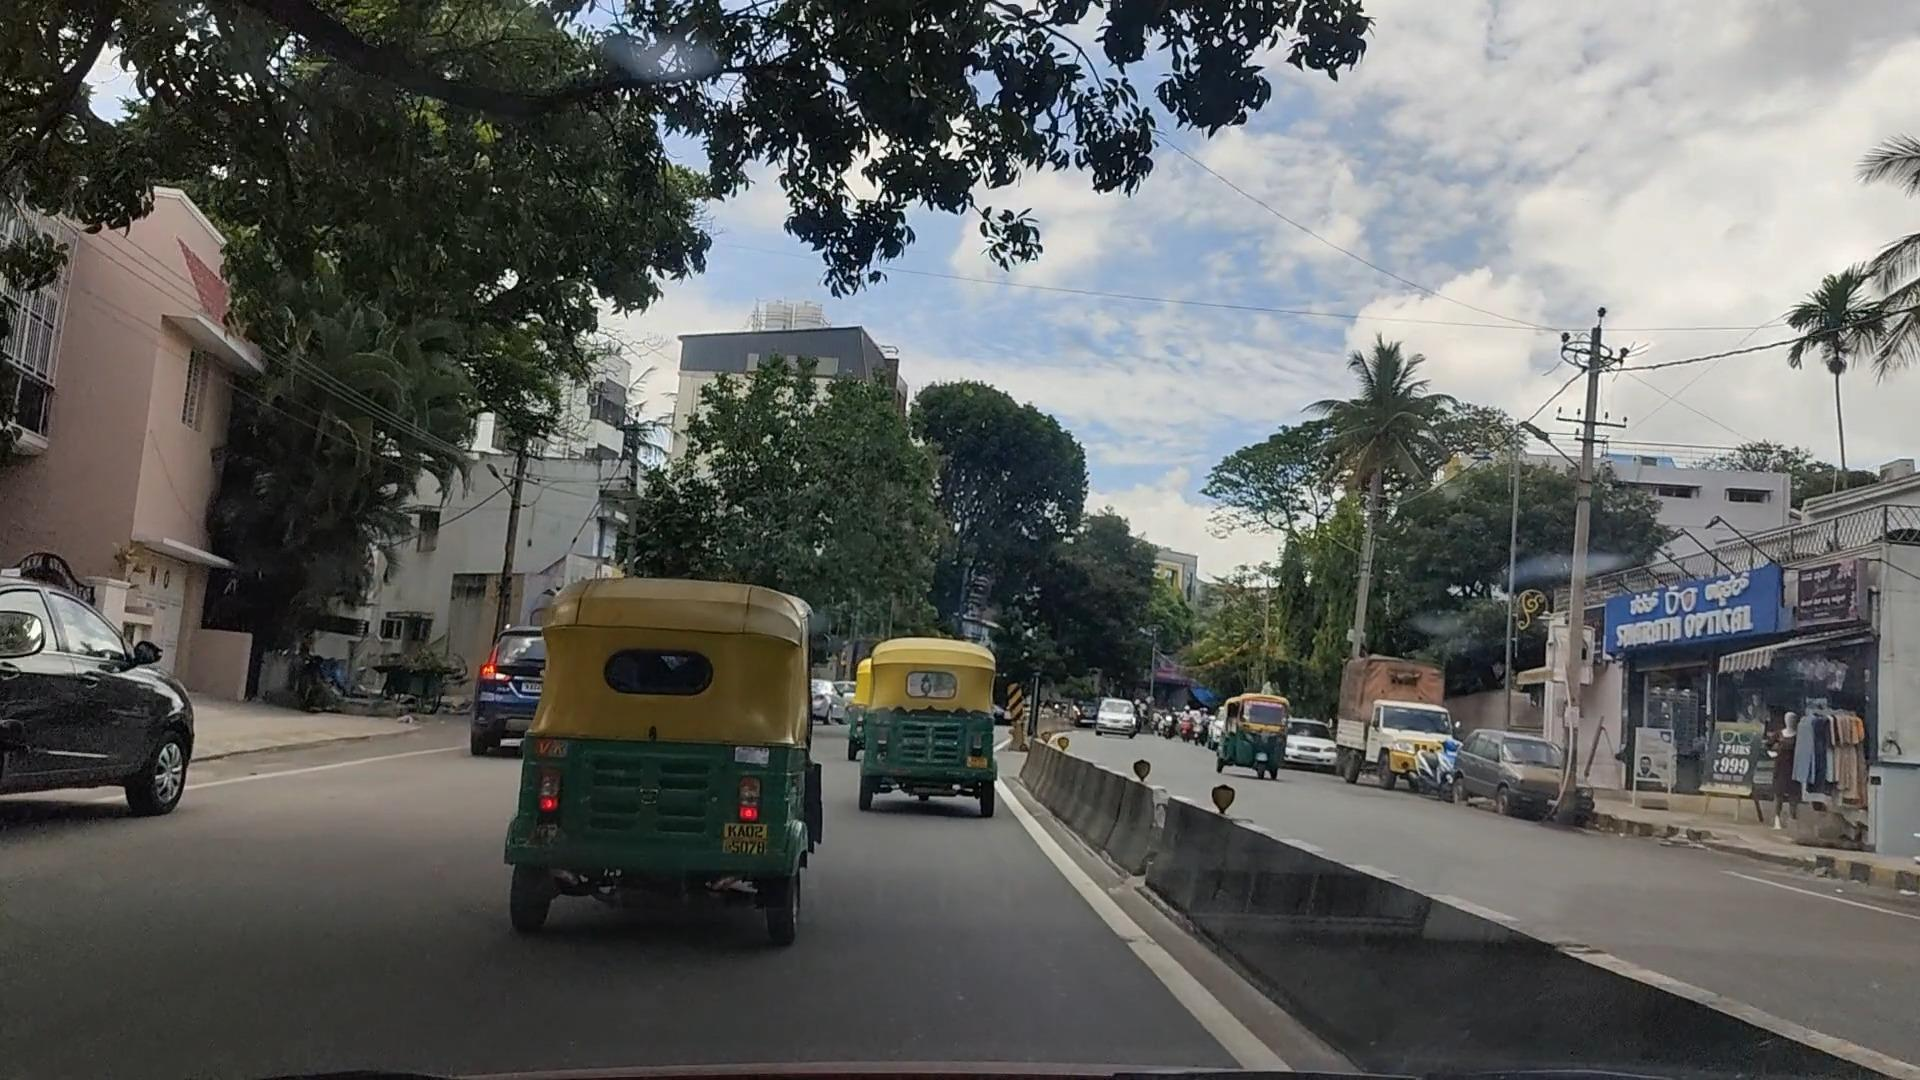LMV: (498, 580, 819, 951), (3, 578, 214, 819), (861, 608, 1001, 839)
